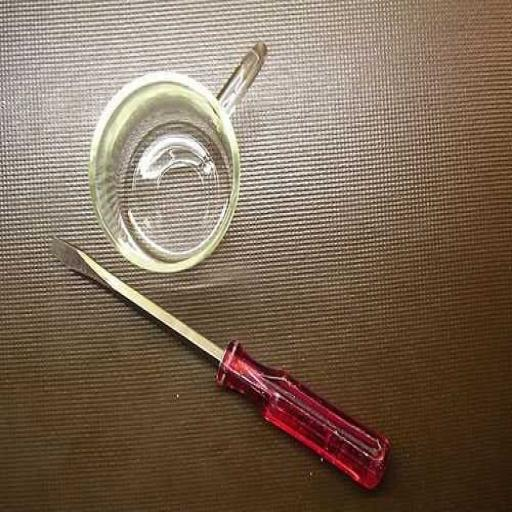screwdriver: (47, 236, 390, 492)
